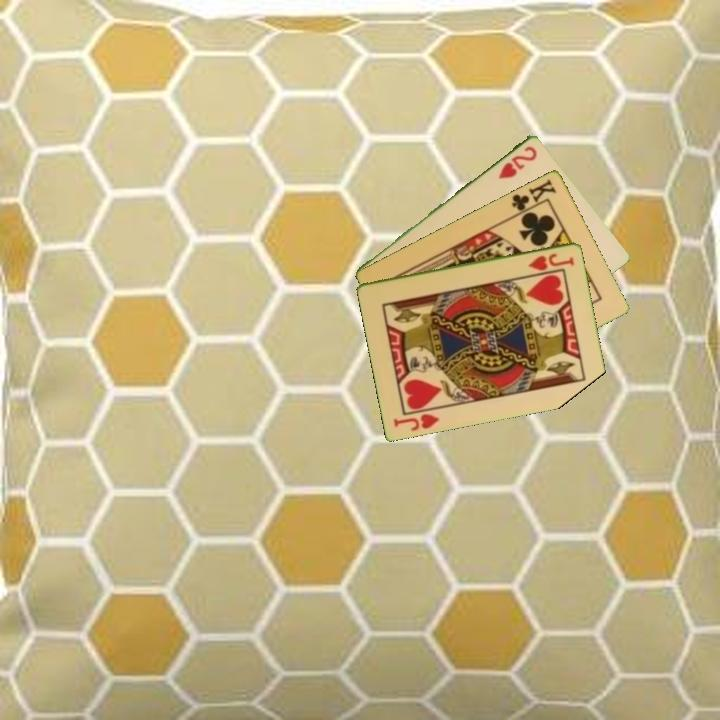2h: (494, 142, 540, 182)
Jh: (390, 405, 444, 433), (525, 249, 577, 273)
Kc: (508, 175, 559, 218)
